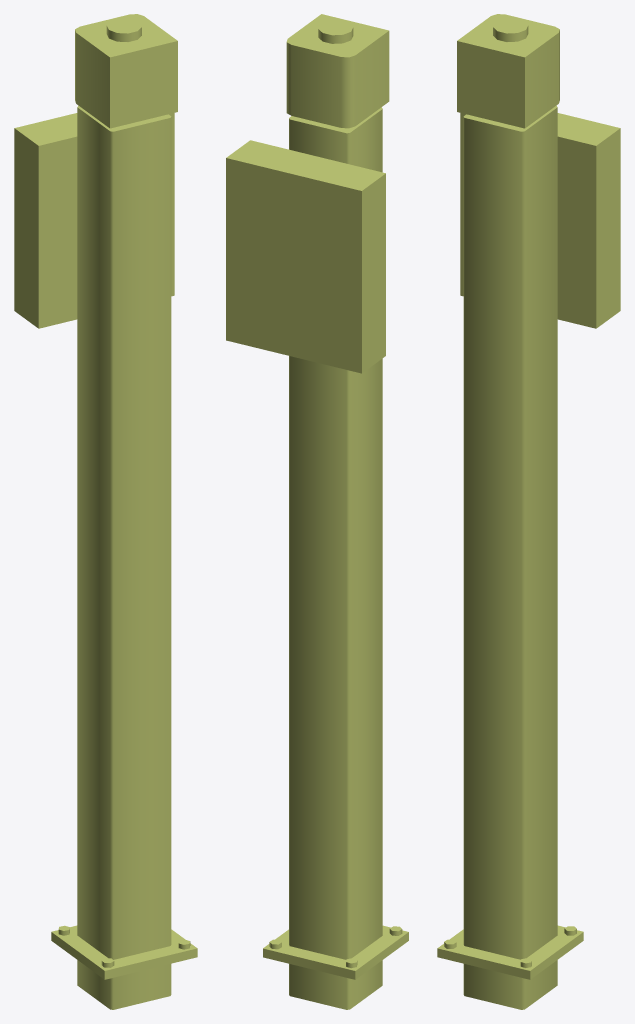
File: Panel_1_Base.fbx
3 views of the same model, side by side, from view 1: azimuth 30°, elevation 25°; view 2: azimuth 150°, elevation 25°; view 3: azimuth 330°, elevation 25° (orthographic).
Parts seen in each view (by area): view 1: Panel_1_Base_LOD0; view 2: Panel_1_Base_LOD0; view 3: Panel_1_Base_LOD0.
Part boxes in pixels (x1,y1,x2,y2): Panel_1_Base_LOD0: [14, 14, 197, 1009]; Panel_1_Base_LOD0: [226, 14, 408, 1009]; Panel_1_Base_LOD0: [437, 14, 620, 1009].
Size of what is drawn, in the model's own units: 0.2223 by 1.51 by 0.1946.
